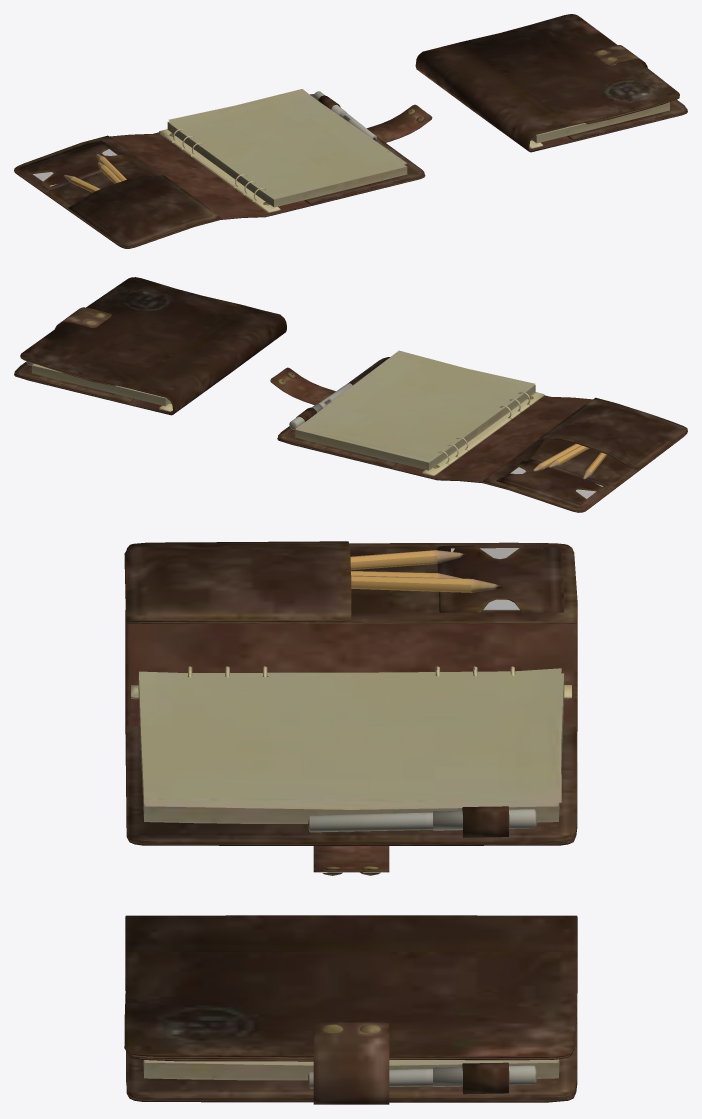
Rendered from binder_notebook.glb.
3 renders of one model, top to bottom at view 1: azimuth 30°, elevation 25°; view 2: azimuth 150°, elevation 25°; view 3: azimuth 270°, elevation 25°, orthographic. The views are drawn at different scales.
Parts seen in each view (by area): view 1: binder_notebook; view 2: binder_notebook; view 3: binder_notebook.
Boxes of the visible parts, x1=… form: binder_notebook: x1=14, y1=14, x2=687, y2=248; binder_notebook: x1=14, y1=277, x2=687, y2=512; binder_notebook: x1=124, y1=541, x2=577, y2=1104.
Bounding box in the file's own units: 0.5836 × 0.0252 × 0.1997.
1 material, 1 textured.
